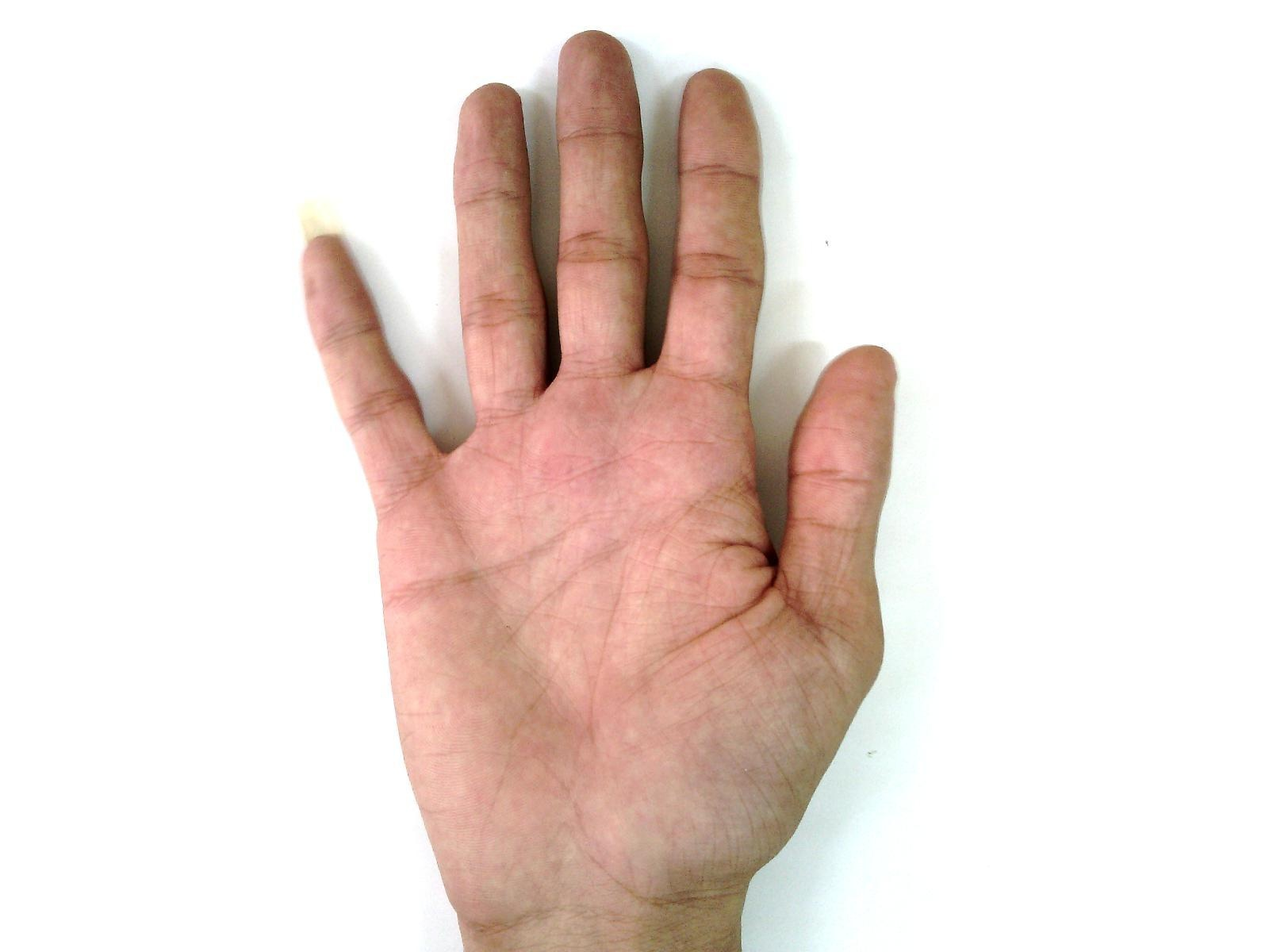open_palm: (297, 29, 897, 928)
